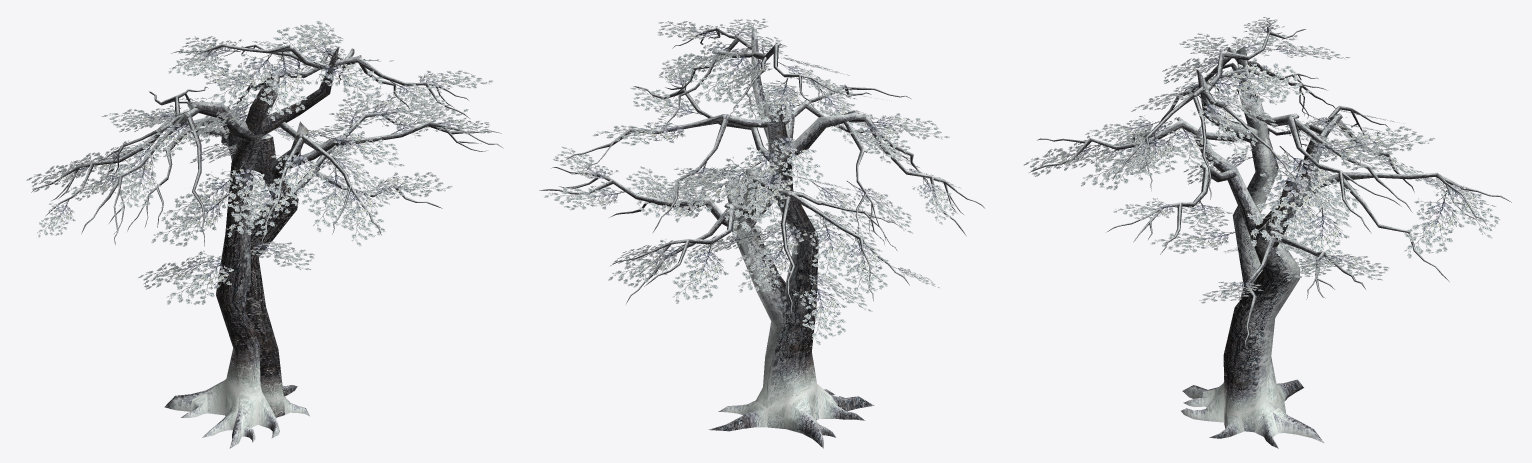
Rendered from S_Tree_White018.FBX.
3 views of the same model, side by side, from view 1: azimuth 30°, elevation 25°; view 2: azimuth 150°, elevation 25°; view 3: azimuth 270°, elevation 25° (orthographic). The views are drawn at different scales.
Parts seen in each view (by area): view 1: S_Tree_White018; view 2: S_Tree_White018; view 3: S_Tree_White018.
Part boxes in pixels (x1,y1,x2,y2): S_Tree_White018: [26, 20, 503, 448]; S_Tree_White018: [539, 18, 984, 448]; S_Tree_White018: [1023, 17, 1511, 448].
Size of the model in its own units: 1318 by 1328 by 1114.
